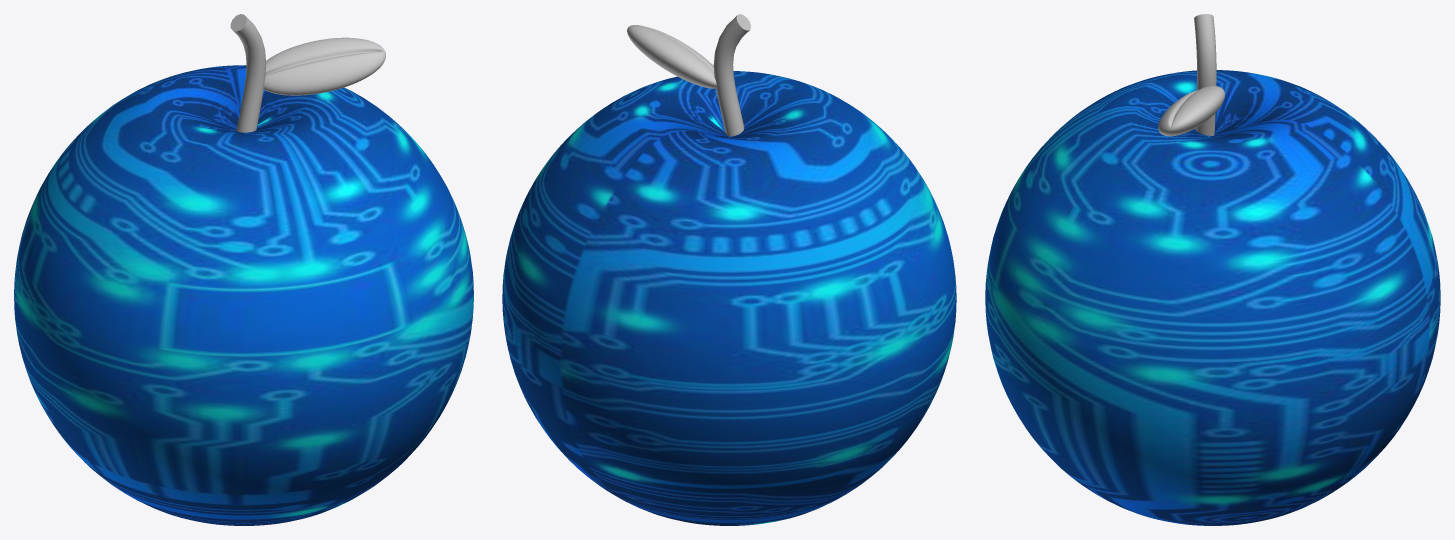
Rendered from ModelApple_cyber.glb.
3 renders of one model, left to right at view 1: azimuth 30°, elevation 25°; view 2: azimuth 150°, elevation 25°; view 3: azimuth 270°, elevation 25°, orthographic.
Visible parts, largest first — view 1: Sphere.008, Sphere.009, BezierCurve.004; view 2: Sphere.008, Sphere.009, BezierCurve.004; view 3: Sphere.008, Sphere.009, BezierCurve.004.
Boxes of the visible parts, x1,y1,x2,y2 form: Sphere.008: [14, 65, 473, 525]; Sphere.009: [263, 37, 385, 95]; BezierCurve.004: [230, 14, 266, 132]; Sphere.008: [502, 71, 956, 525]; Sphere.009: [627, 25, 716, 88]; BezierCurve.004: [713, 14, 751, 136]; Sphere.008: [985, 70, 1440, 525]; Sphere.009: [1158, 86, 1224, 136]; BezierCurve.004: [1194, 14, 1216, 135].
Size of the model in its own units: 0.2359 by 0.2687 by 0.2359.
3 materials, 1 textured.
